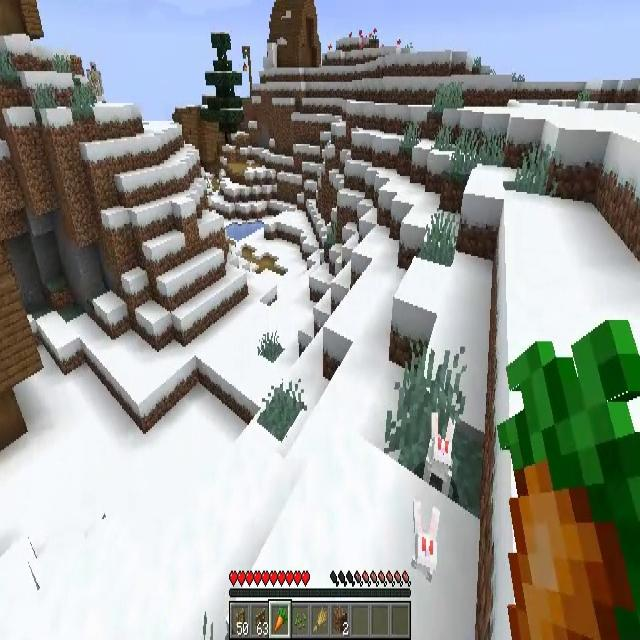rabbit: (425, 413, 453, 494), (412, 503, 438, 579)
